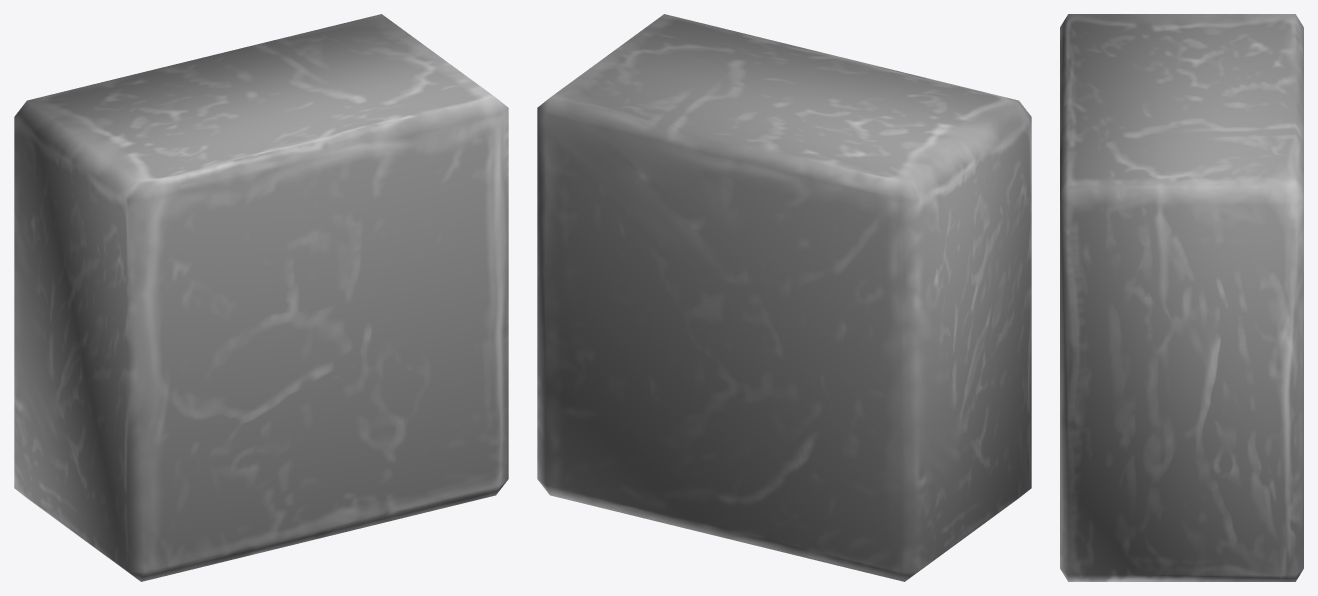
Rendered from Brick_5.fbx.
3 views of the same model, side by side, from view 1: azimuth 30°, elevation 25°; view 2: azimuth 150°, elevation 25°; view 3: azimuth 270°, elevation 25° (orthographic).
Parts seen in each view (by area): view 1: BrickS; view 2: BrickS; view 3: BrickS.
Part boxes in pixels (<box>): BrickS: <box>14,14,508,581</box>; BrickS: <box>537,14,1031,581</box>; BrickS: <box>1060,14,1303,581</box>.
Bounding box in the file's own units: 209 × 209 × 117.
